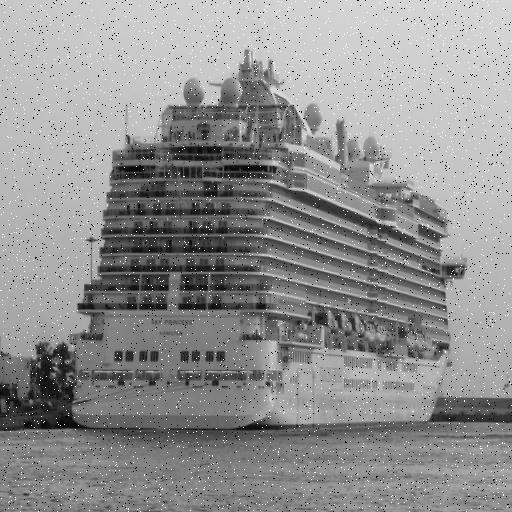cruises: (66, 44, 472, 442)
